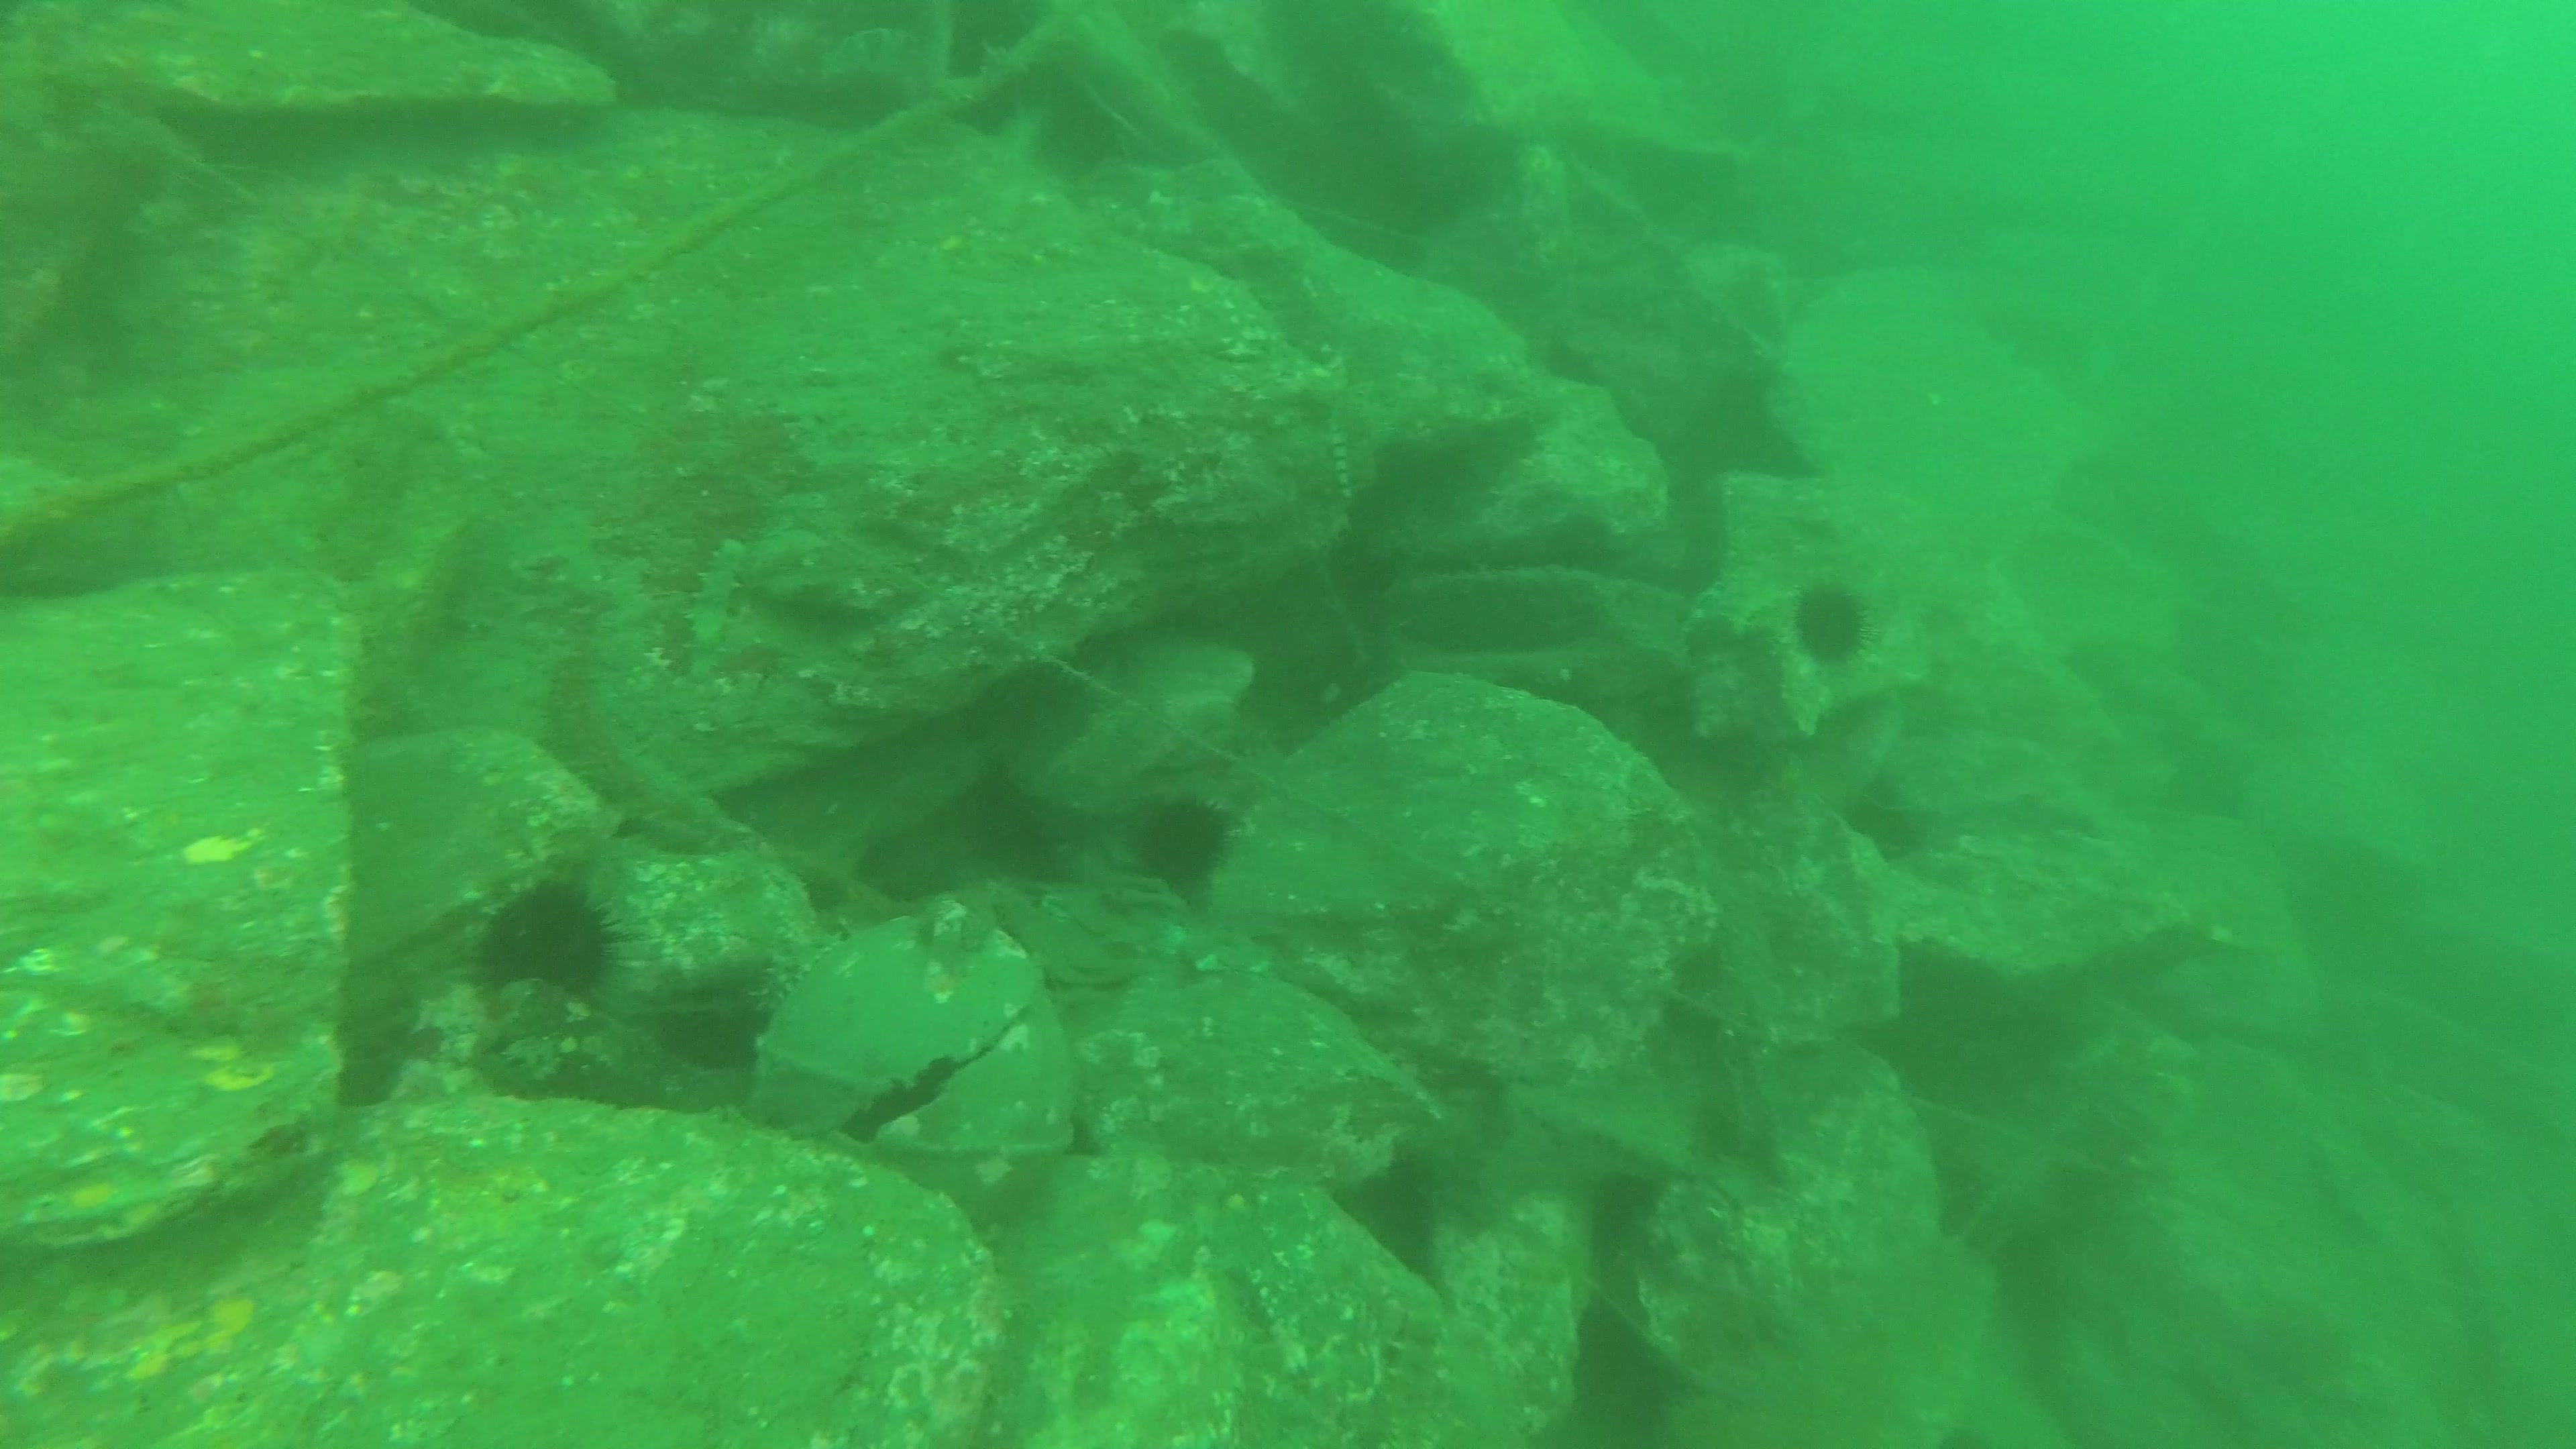echinus: (460, 879, 639, 1008), (970, 778, 1069, 888), (1141, 798, 1231, 890), (1844, 773, 1928, 860), (1792, 586, 1874, 665)
